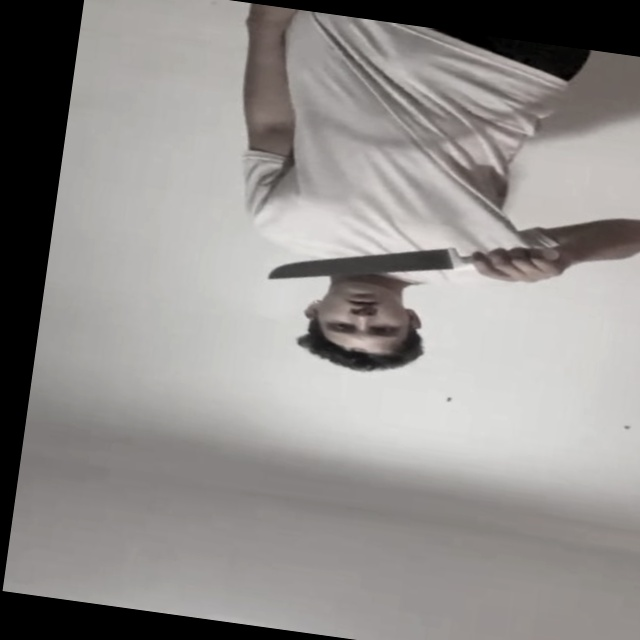Sharp-Object: (267, 228, 452, 305)
